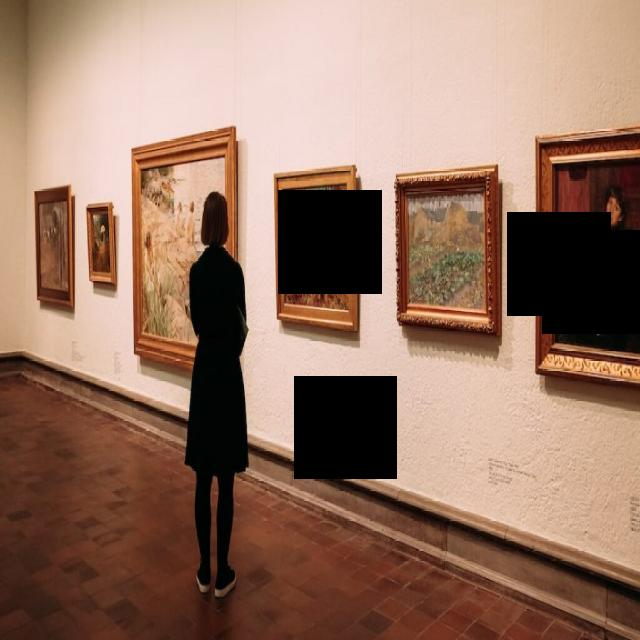Tablo: (551, 156, 640, 359), (140, 154, 226, 354), (405, 190, 486, 312), (281, 182, 349, 312), (38, 199, 69, 294), (90, 212, 111, 273)
